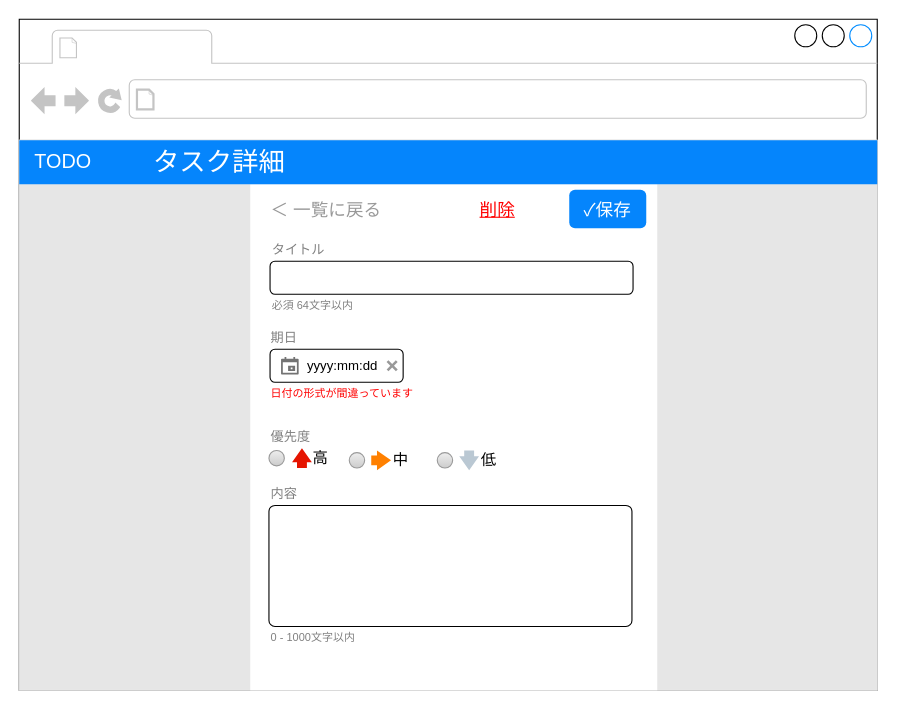
Image size: 897x710. Some labels were removed from this diagram. Here are the shapes that lost their labels. From the top down, the centre of each, then its label:
(x=145, y=46): Page 1
(x=299, y=99): https://www.draw.io
